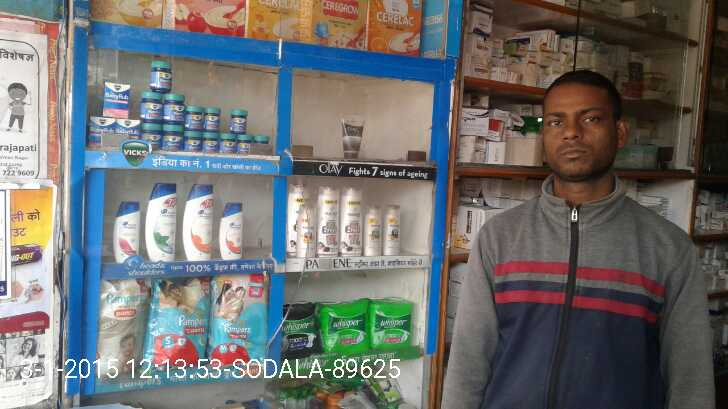vicks: (89, 57, 272, 159)
